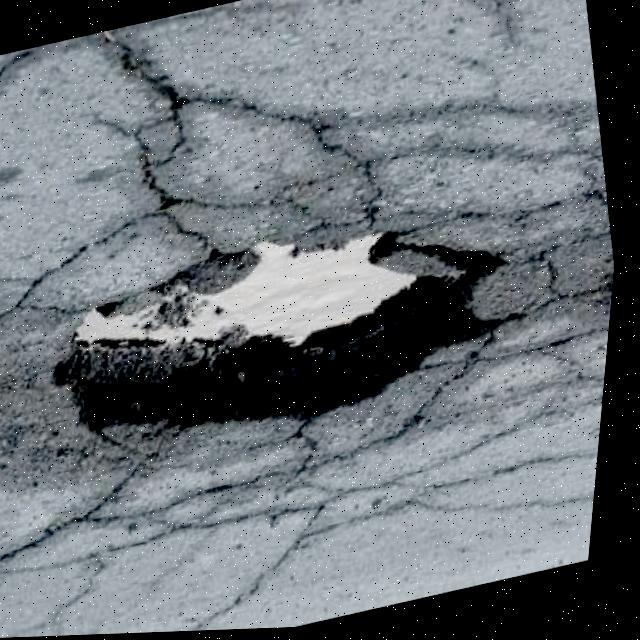Pothole: (30, 178, 545, 493)
